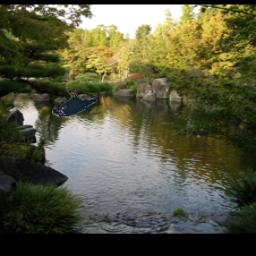Crow: (52, 89, 97, 118)
